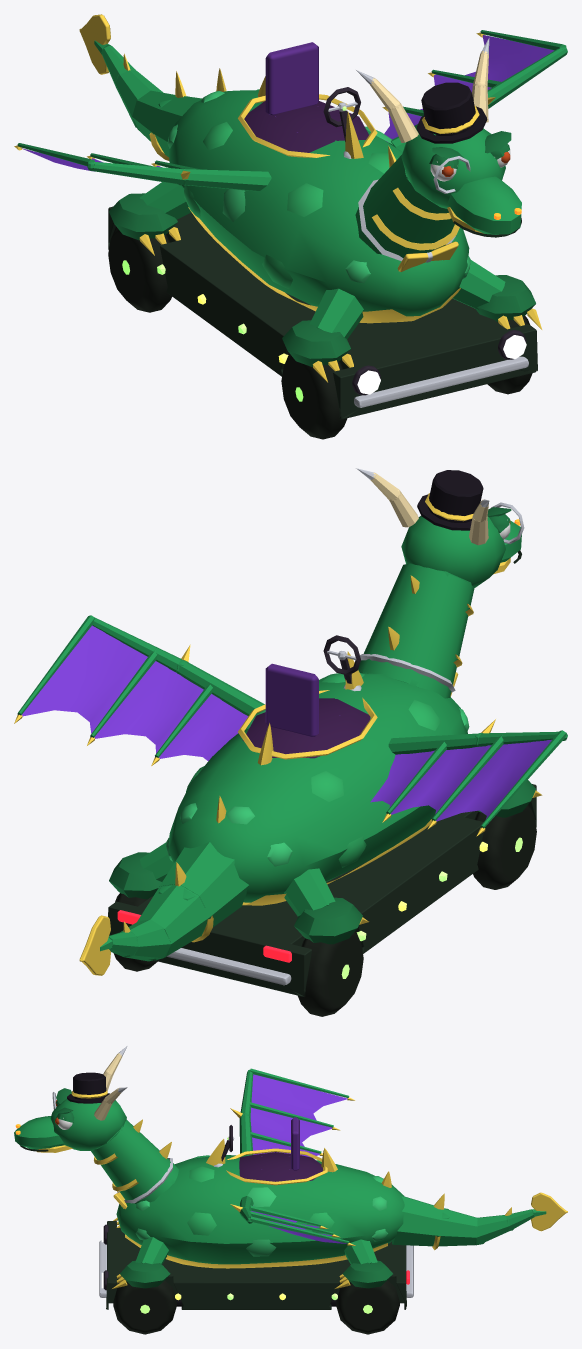
The model's file is sir_scorchalot_lo.glb.
3 renders of one model, top to bottom at view 1: azimuth 30°, elevation 25°; view 2: azimuth 150°, elevation 25°; view 3: azimuth 270°, elevation 25°, orthographic. The views are drawn at different scales.
Visible parts, largest first — view 1: trunk, platform, neck, cranium, saddle, wheel_FR_tyre, wheel_RR_tyre, seat_back, snout, hat, wingL_membrane, bumper_1 (+25 smaller); view 2: trunk, platform, wingL_membrane, neck, wingR_membrane, cranium, wingL_membrane_b, wheel_RR_tyre, tail_0, wheel_FR_tyre, saddle, seat_back (+22 smaller); view 3: trunk, platform, wingR_membrane, neck, wheel_RL_tyre, wheel_FL_tyre, cranium, saddle, tail_0, tail_1, snout, wingR_membrane_b (+22 smaller).
Part boxes in pixels (x1,y1,x2,y2): trunk: [168, 90, 469, 316]; platform: [108, 206, 537, 419]; neck: [355, 155, 454, 258]; cranium: [401, 124, 505, 208]; saddle: [244, 101, 368, 152]; wheel_FR_tyre: [281, 353, 347, 439]; wheel_RR_tyre: [108, 226, 172, 312]; seat_back: [265, 42, 318, 115]; snout: [447, 176, 521, 234]; hat: [416, 82, 487, 143]; wingL_membrane: [384, 35, 553, 141]; bumper_1: [354, 356, 528, 407]; trunk: [168, 673, 467, 902]; platform: [108, 784, 536, 996]; wingL_membrane: [22, 625, 248, 761]; neck: [358, 564, 474, 698]; wingR_membrane: [370, 739, 551, 821]; cranium: [401, 516, 505, 588]; wingL_membrane_b: [23, 625, 247, 758]; wheel_RR_tyre: [298, 930, 363, 1016]; tail_0: [159, 842, 249, 926]; wheel_FR_tyre: [473, 804, 536, 889]; saddle: [242, 698, 370, 758]; seat_back: [265, 663, 318, 736]; trunk: [116, 1155, 404, 1264]; platform: [106, 1221, 406, 1309]; wingR_membrane: [250, 1074, 347, 1157]; neck: [91, 1119, 178, 1203]; wheel_RL_tyre: [336, 1280, 399, 1334]; wheel_FL_tyre: [113, 1280, 176, 1334]; cranium: [50, 1099, 126, 1150]; saddle: [239, 1152, 322, 1181]; tail_0: [392, 1196, 441, 1246]; tail_1: [438, 1209, 477, 1246]; snout: [14, 1116, 63, 1149]; wingR_membrane_b: [251, 1075, 344, 1155].
Bounding box in the file's own units: 5.6 × 4.11 × 8.7.
